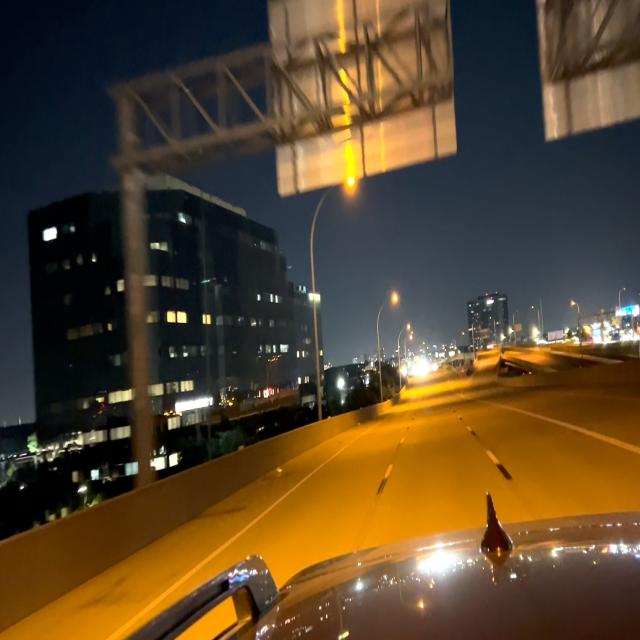back-of-sign: (267, 0, 458, 198), (534, 0, 640, 141)
